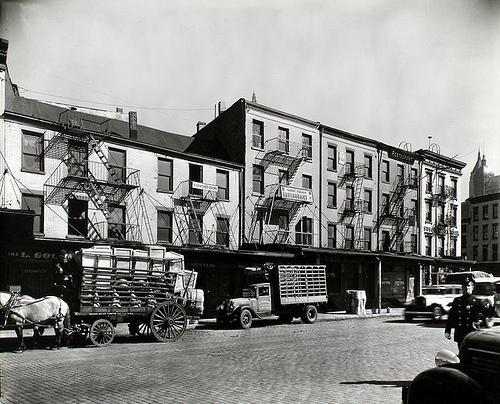car: (399, 324, 500, 400), (404, 284, 464, 322), (472, 277, 500, 330)
truck: (213, 264, 328, 326), (403, 271, 494, 322)
